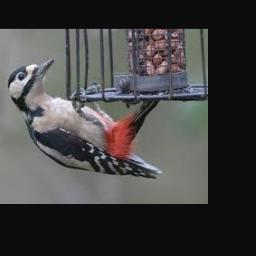Woodpecker: (7, 59, 162, 179)
